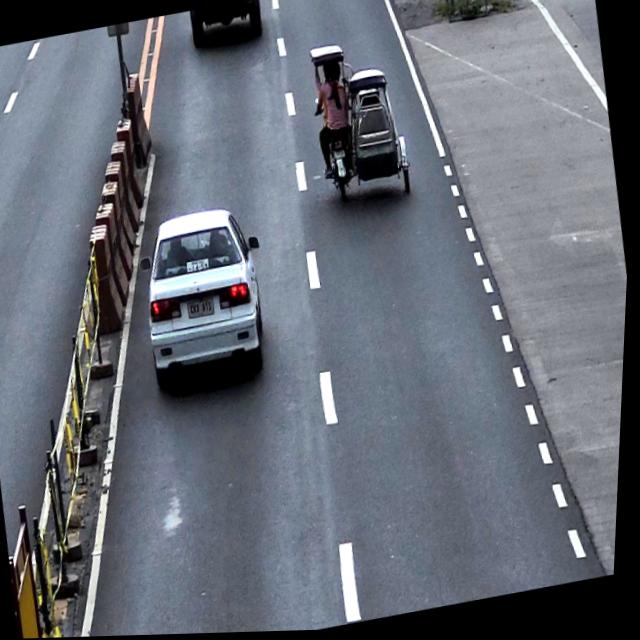Car: (132, 200, 283, 393), (188, 0, 267, 53)
License-Plate: (187, 295, 219, 321), (334, 150, 347, 163)
Tricycle: (301, 34, 420, 211)
